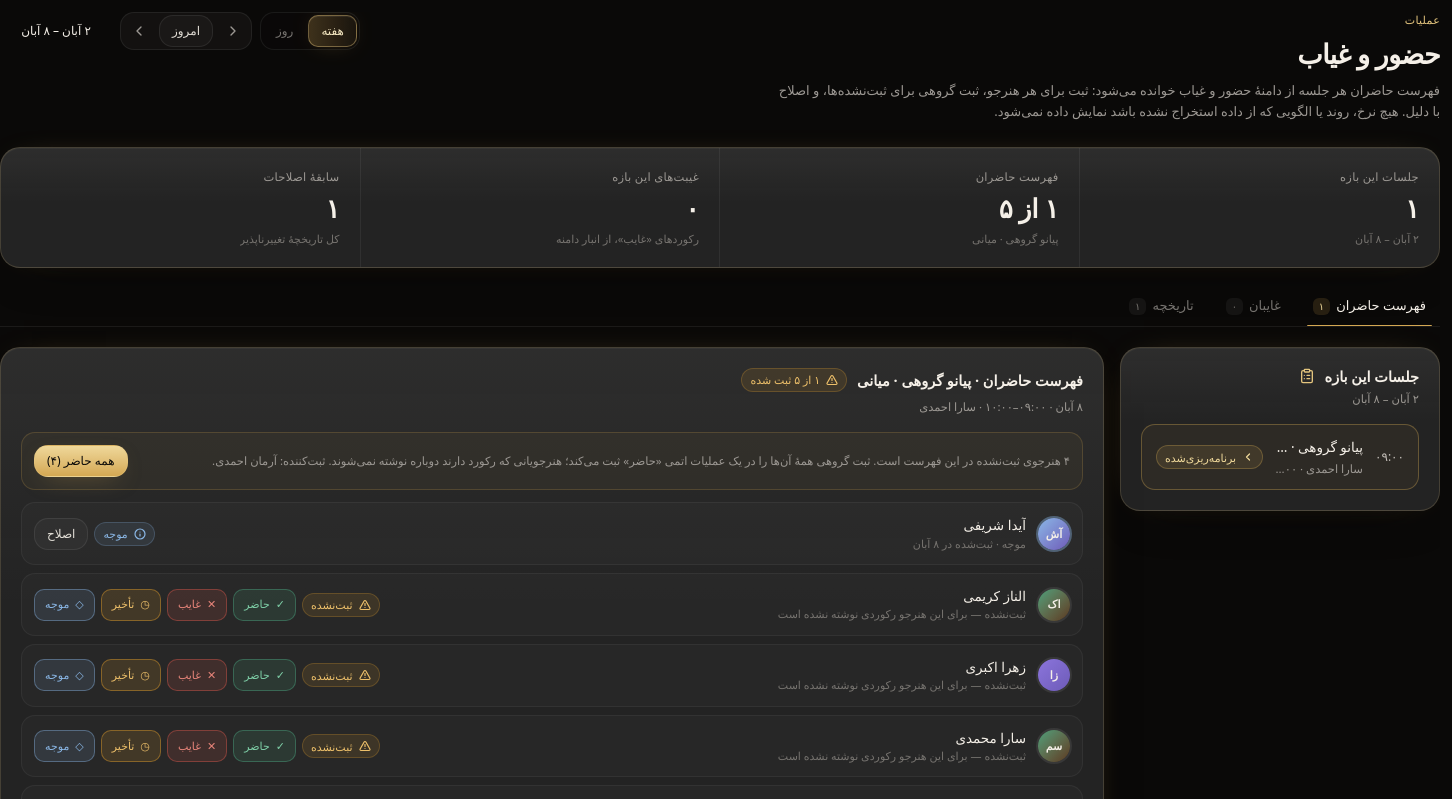
Test case: correcting through the real repository › reads the correction history back on the history tab
Click the tab "تاریخچه ۱": (1161, 309) [1115,292,1208,326]
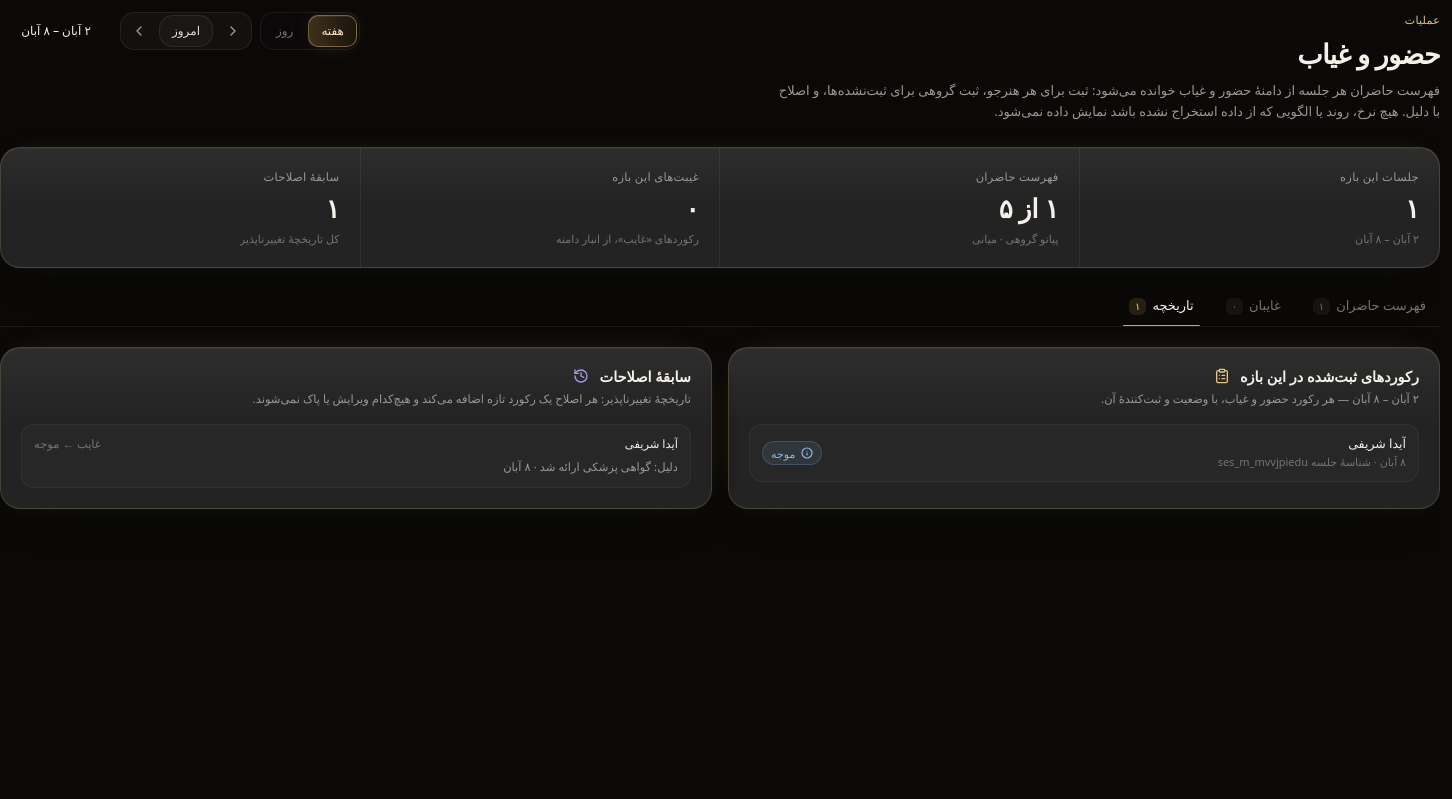
Expected: the text "سابقهٔ اصلاحات" is shown, [264,168,340,185]
Now the text "دلیل: گواهی پزشکی ارائه شد · ۸ آبان" is shown, box [503,459,678,474]
Now the text "رکوردهای ثبت‌شده در این بازه" is shown, box [1240,368,1419,383]
